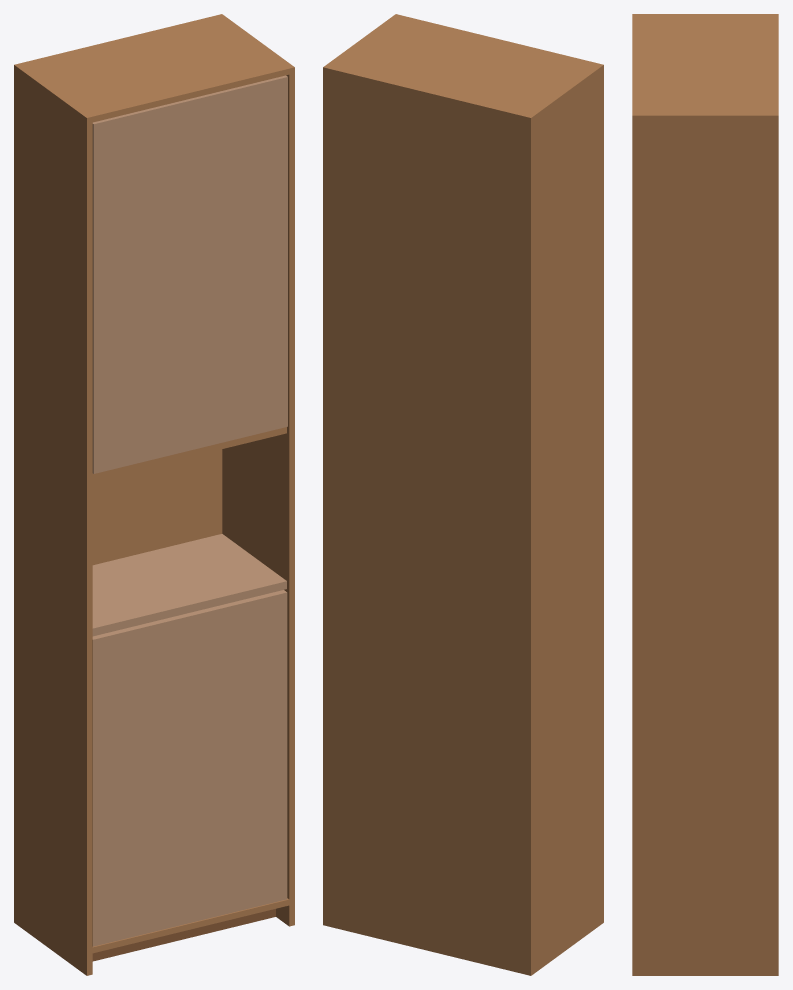
File: 窄高置物柜.glb
3 renders of one model, left to right at view 1: azimuth 30°, elevation 25°; view 2: azimuth 150°, elevation 25°; view 3: azimuth 270°, elevation 25°, orthographic.
Parts seen in each view (by area): view 1: structure-assembly; view 2: structure-assembly; view 3: structure-assembly.
Part boxes in pixels (x1,y1,x2,y2): structure-assembly: [14, 14, 294, 975]; structure-assembly: [323, 14, 603, 975]; structure-assembly: [632, 14, 778, 975].
Bounding box in the file's own units: 0.66 × 2.6 × 0.4.
